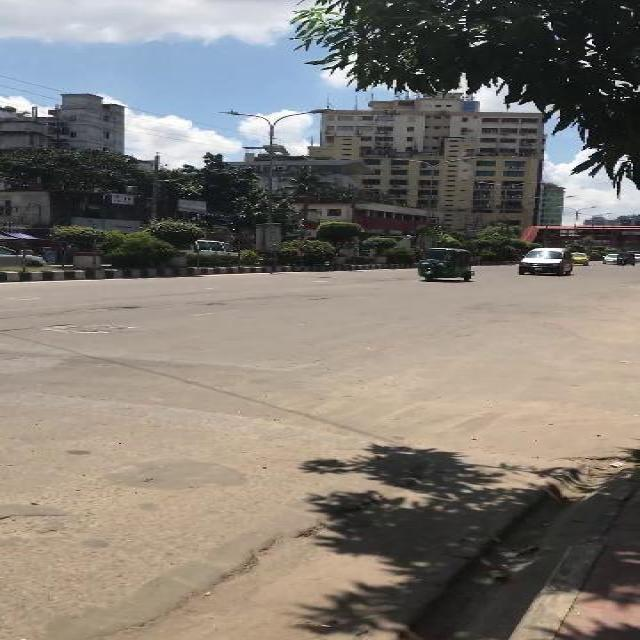vehicle: (418, 247, 476, 283), (519, 248, 576, 279), (615, 252, 635, 268), (571, 252, 590, 266), (601, 254, 617, 265)
